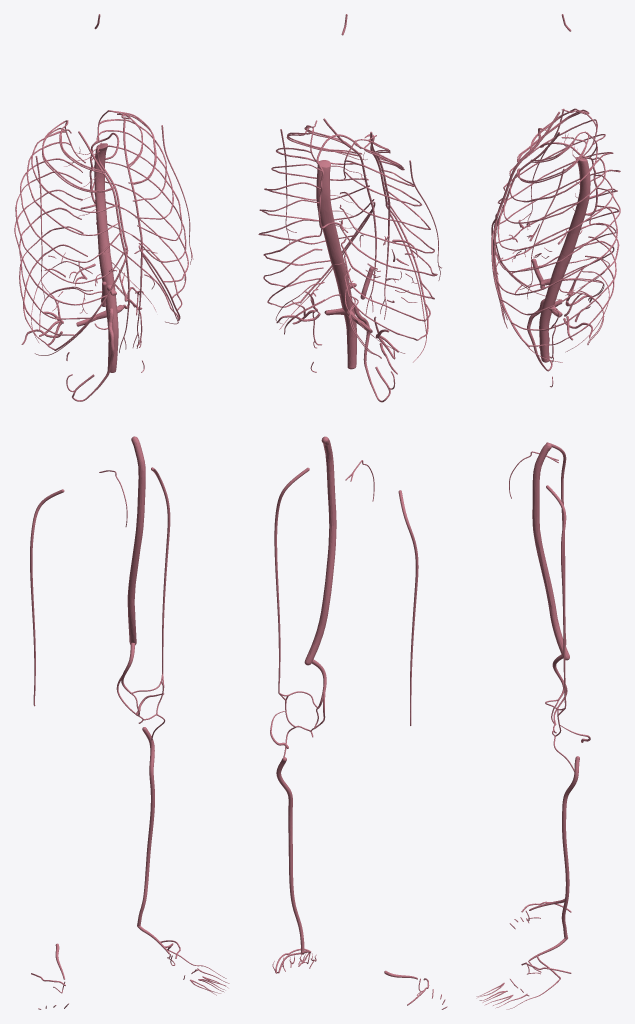
File: cardiovascular-02.glb
3 views of the same model, side by side, from view 1: azimuth 30°, elevation 25°; view 2: azimuth 150°, elevation 25°; view 3: azimuth 270°, elevation 25° (orthographic). The views are drawn at different scales.
Parts seen in each view (by area): view 1: FJ1994, FJ1985, FJ2074, FJ1931, FJ1932, FJ2065, FJ2057, FJ2063; view 2: FJ1994, FJ1985, FJ2074, FJ1931, FJ1932, FJ2065, FJ2063, FJ2057; view 3: FJ1985, FJ1994, FJ2074, FJ1932, FJ1931, FJ2065, FJ2063, FJ2057, FJ2072.
Part boxes in pixels (bbox=[...]): FJ1994: bbox=[14, 120, 127, 350]; FJ1985: bbox=[91, 110, 188, 318]; FJ2074: bbox=[127, 436, 145, 645]; FJ1931: bbox=[94, 143, 110, 253]; FJ1932: bbox=[98, 252, 118, 372]; FJ2065: bbox=[137, 727, 154, 926]; FJ2057: bbox=[30, 489, 64, 706]; FJ2063: bbox=[151, 467, 170, 673]; FJ1994: bbox=[339, 139, 437, 353]; FJ1985: bbox=[258, 125, 374, 323]; FJ2074: bbox=[304, 436, 336, 665]; FJ1931: bbox=[316, 160, 344, 264]; FJ1932: bbox=[331, 261, 356, 369]; FJ2065: bbox=[276, 757, 304, 951]; FJ2063: bbox=[274, 467, 309, 693]; FJ2057: bbox=[398, 490, 418, 725]; FJ1985: bbox=[493, 132, 620, 352]; FJ1994: bbox=[495, 108, 620, 295]; FJ2074: bbox=[532, 443, 569, 660]; FJ1932: bbox=[539, 252, 571, 362]; FJ1931: bbox=[561, 157, 590, 257]; FJ2065: bbox=[561, 756, 579, 938]; FJ2063: bbox=[546, 485, 566, 708]; FJ2057: bbox=[546, 442, 566, 645]; FJ2072: bbox=[476, 978, 560, 1009].
Size of the model in its own units: 0.3094 by 1.6 by 0.2212.
